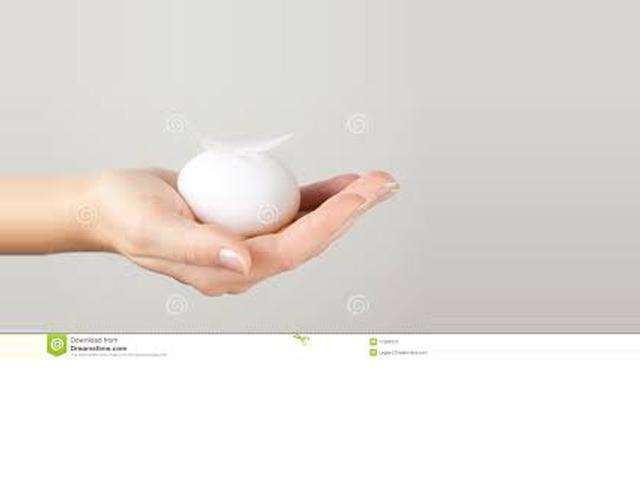egg: (176, 151, 302, 235)
